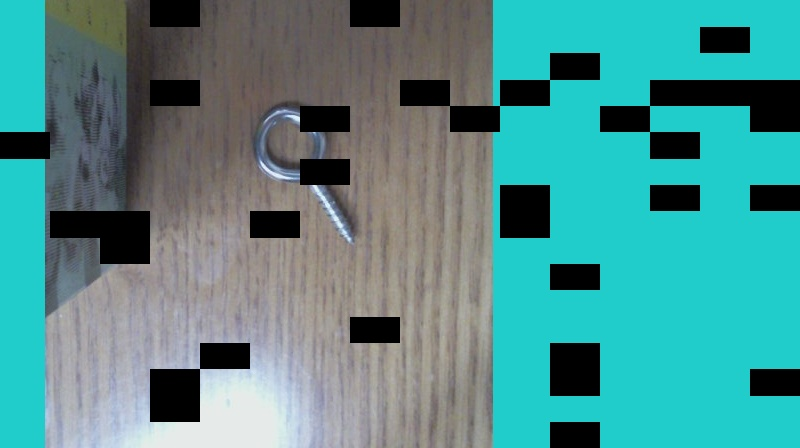O001: (251, 99, 359, 246)
